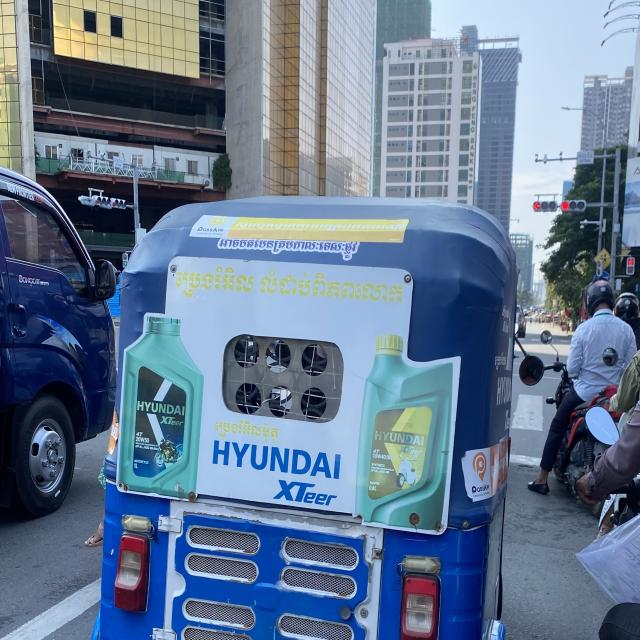1: (170, 260, 410, 313)
206: (368, 485, 377, 492)
549: (372, 453, 387, 460)
630: (133, 463, 138, 469)
658: (135, 436, 149, 443)
762: (373, 449, 381, 454), (135, 432, 144, 436)
Yolov11_80vkh: (216, 234, 362, 263), (212, 416, 281, 446)
